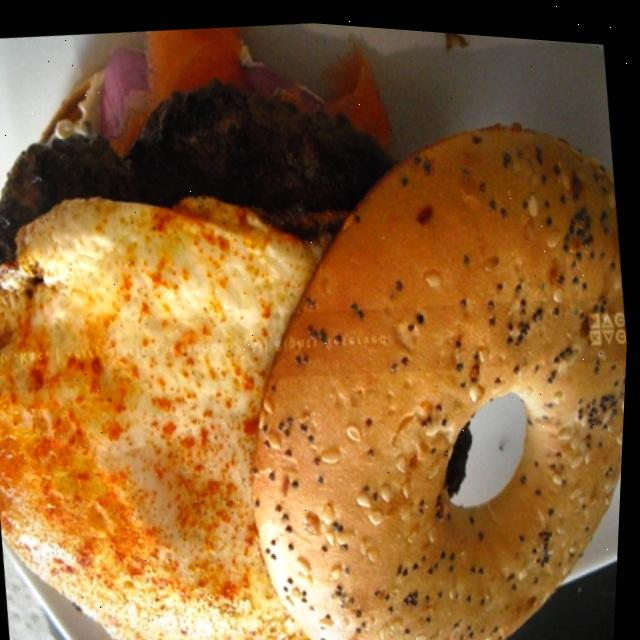面包点心: (0, 38, 639, 640)
